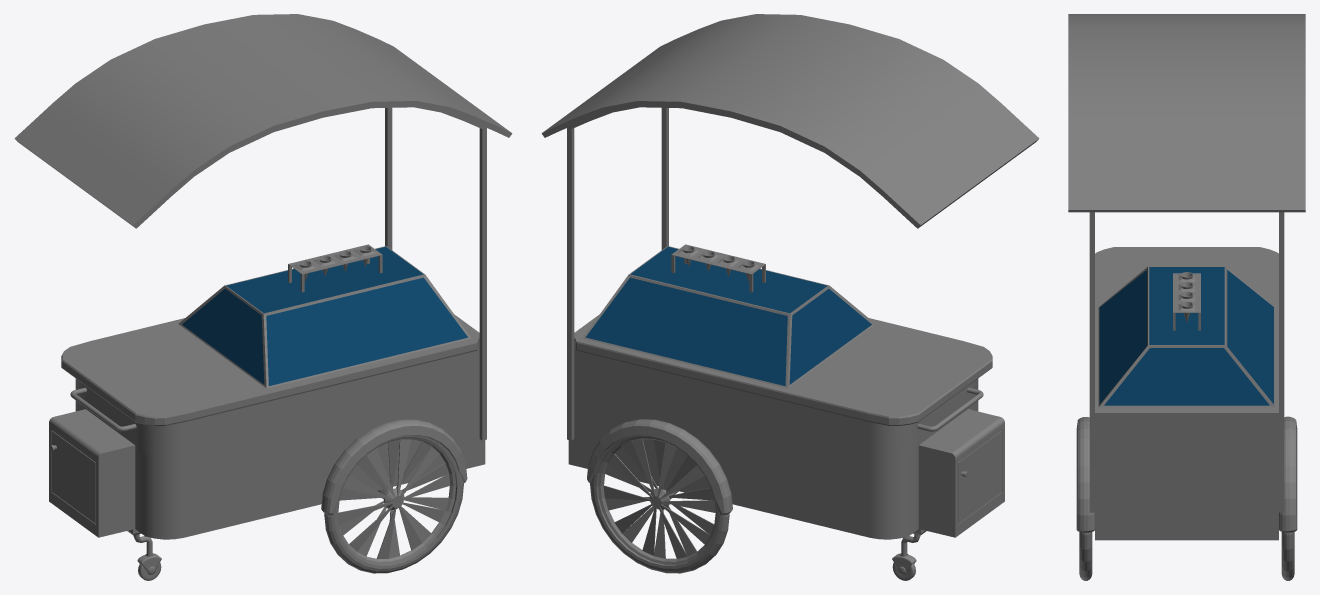
Rendered from IceCreamCart_2.obj.
3 views of the same model, side by side, from view 1: azimuth 30°, elevation 25°; view 2: azimuth 150°, elevation 25°; view 3: azimuth 270°, elevation 25° (orthographic).
Visible parts, largest first — view 1: polySurface9, pCylinder29, pCylinder21, pCube5; view 2: polySurface9, pCylinder29, pCylinder21, pCube5; view 3: polySurface9, pCylinder29, pCylinder21, pCube5.
Boxes of the visible parts, box(x1,y1,x2,y2) form: polySurface9: box(49, 246, 485, 580); pCylinder29: box(14, 14, 512, 440); pCylinder21: box(321, 419, 467, 573); pCube5: box(288, 244, 382, 292); polySurface9: box(568, 246, 1004, 580); pCylinder29: box(541, 14, 1039, 440); pCylinder21: box(587, 419, 732, 573); pCube5: box(671, 244, 765, 292); polySurface9: box(1095, 247, 1278, 540); pCylinder29: box(1068, 14, 1305, 512); pCylinder21: box(1076, 416, 1297, 580); pCube5: box(1173, 273, 1200, 330).
Bounding box in the file's own units: 13.76 × 16.63 × 7.37.
